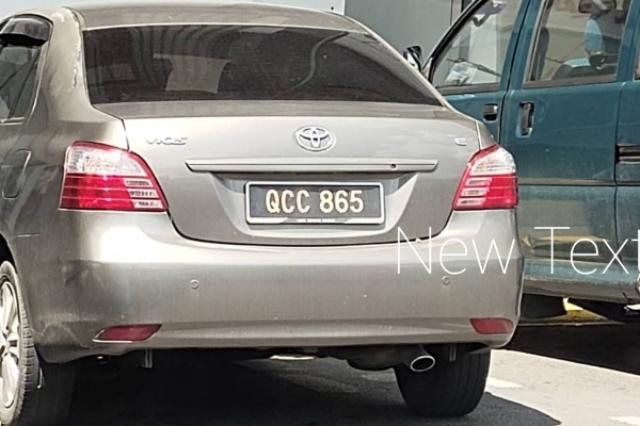License_Plate: (247, 183, 386, 226)
car: (2, 3, 531, 426)
